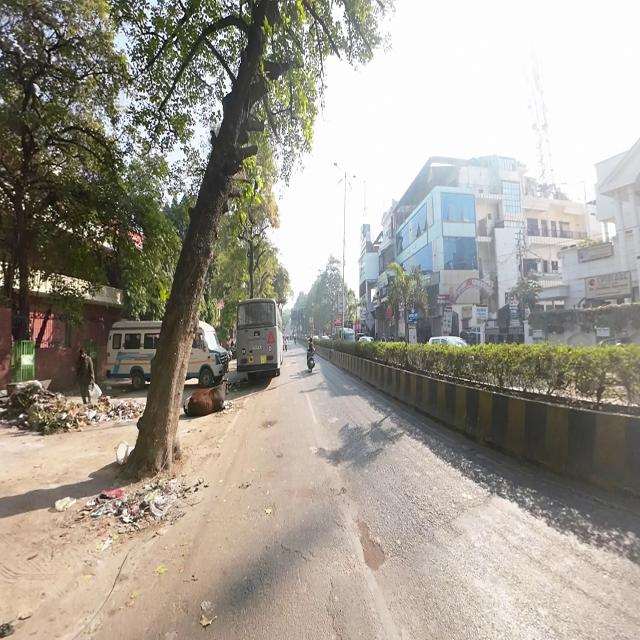Garbage: (80, 469, 199, 538), (6, 374, 70, 434), (67, 398, 138, 428)
